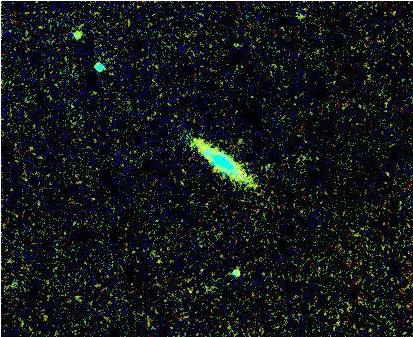star: (62, 21, 92, 51)
